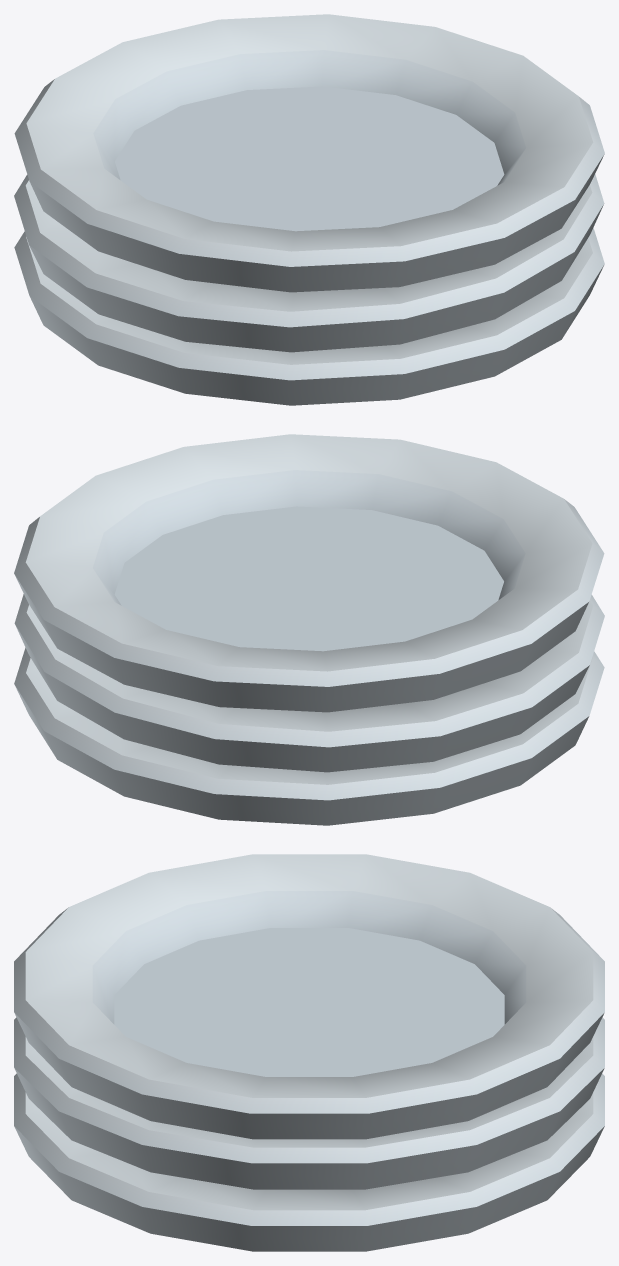
The model's file is plate-stacked.glb.
3 views of the same model, one above another, from view 1: azimuth 30°, elevation 25°; view 2: azimuth 150°, elevation 25°; view 3: azimuth 270°, elevation 25° (orthographic).
Visible parts, largest first — view 1: plate_stacked; view 2: plate_stacked; view 3: plate_stacked.
Part boxes in pixels (<box>): plate_stacked: <box>14,14,604,405</box>; plate_stacked: <box>14,434,604,825</box>; plate_stacked: <box>14,854,604,1251</box>.
Size of the model in its own units: 0.7508 by 0.2628 by 0.75.
Materials: 1 (1 with a texture image).
